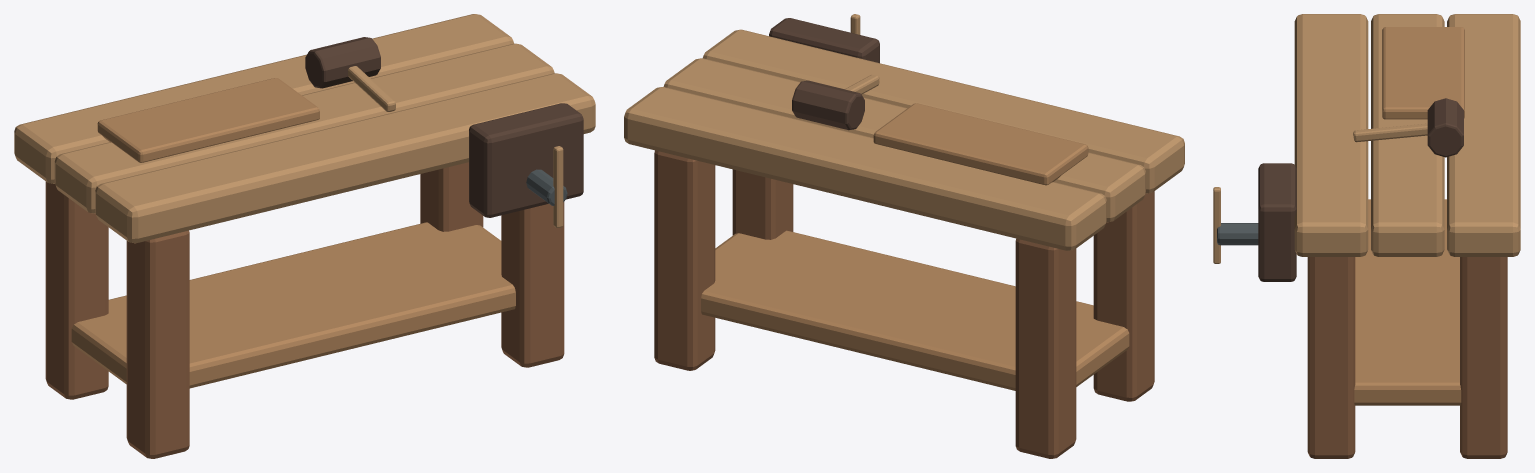
File: workbench_carpenter.glb
The picture shows the model from 3 angles, left to right: view 1: azimuth 30°, elevation 25°; view 2: azimuth 150°, elevation 25°; view 3: azimuth 270°, elevation 25°; orthographic projection. The views are drawn at different scales.
Parts seen in each view (by area): view 1: workbench_carpenter; view 2: workbench_carpenter; view 3: workbench_carpenter.
Part boxes in pixels (x1=…): workbench_carpenter: x1=14, y1=14, x2=595, y2=458; workbench_carpenter: x1=624, y1=14, x2=1184, y2=458; workbench_carpenter: x1=1213, y1=14, x2=1520, y2=458.
Size of the model in its own units: 1.6 by 0.98 by 0.9685.
